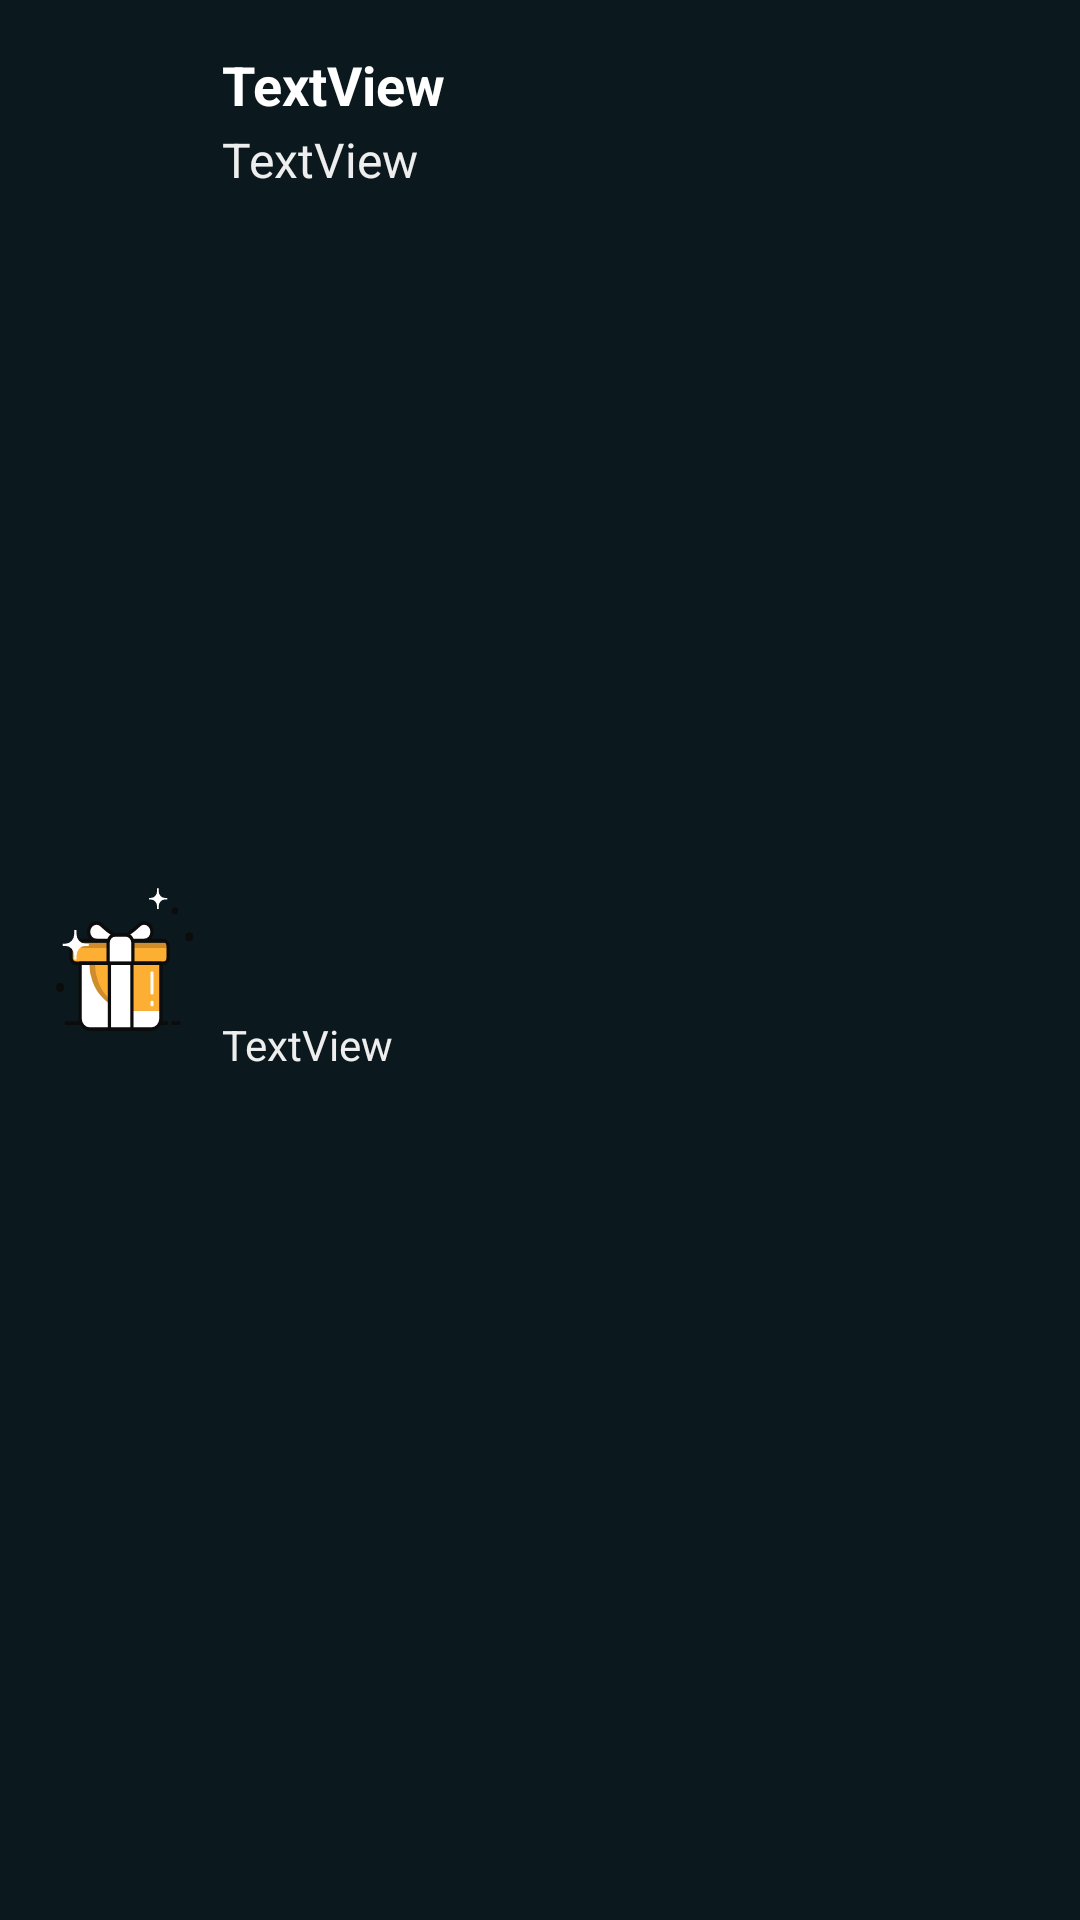

Icon click points for this 1080px x 1920px phone screenshot, format (x=x, y=y):
present: (x=115, y=958)
